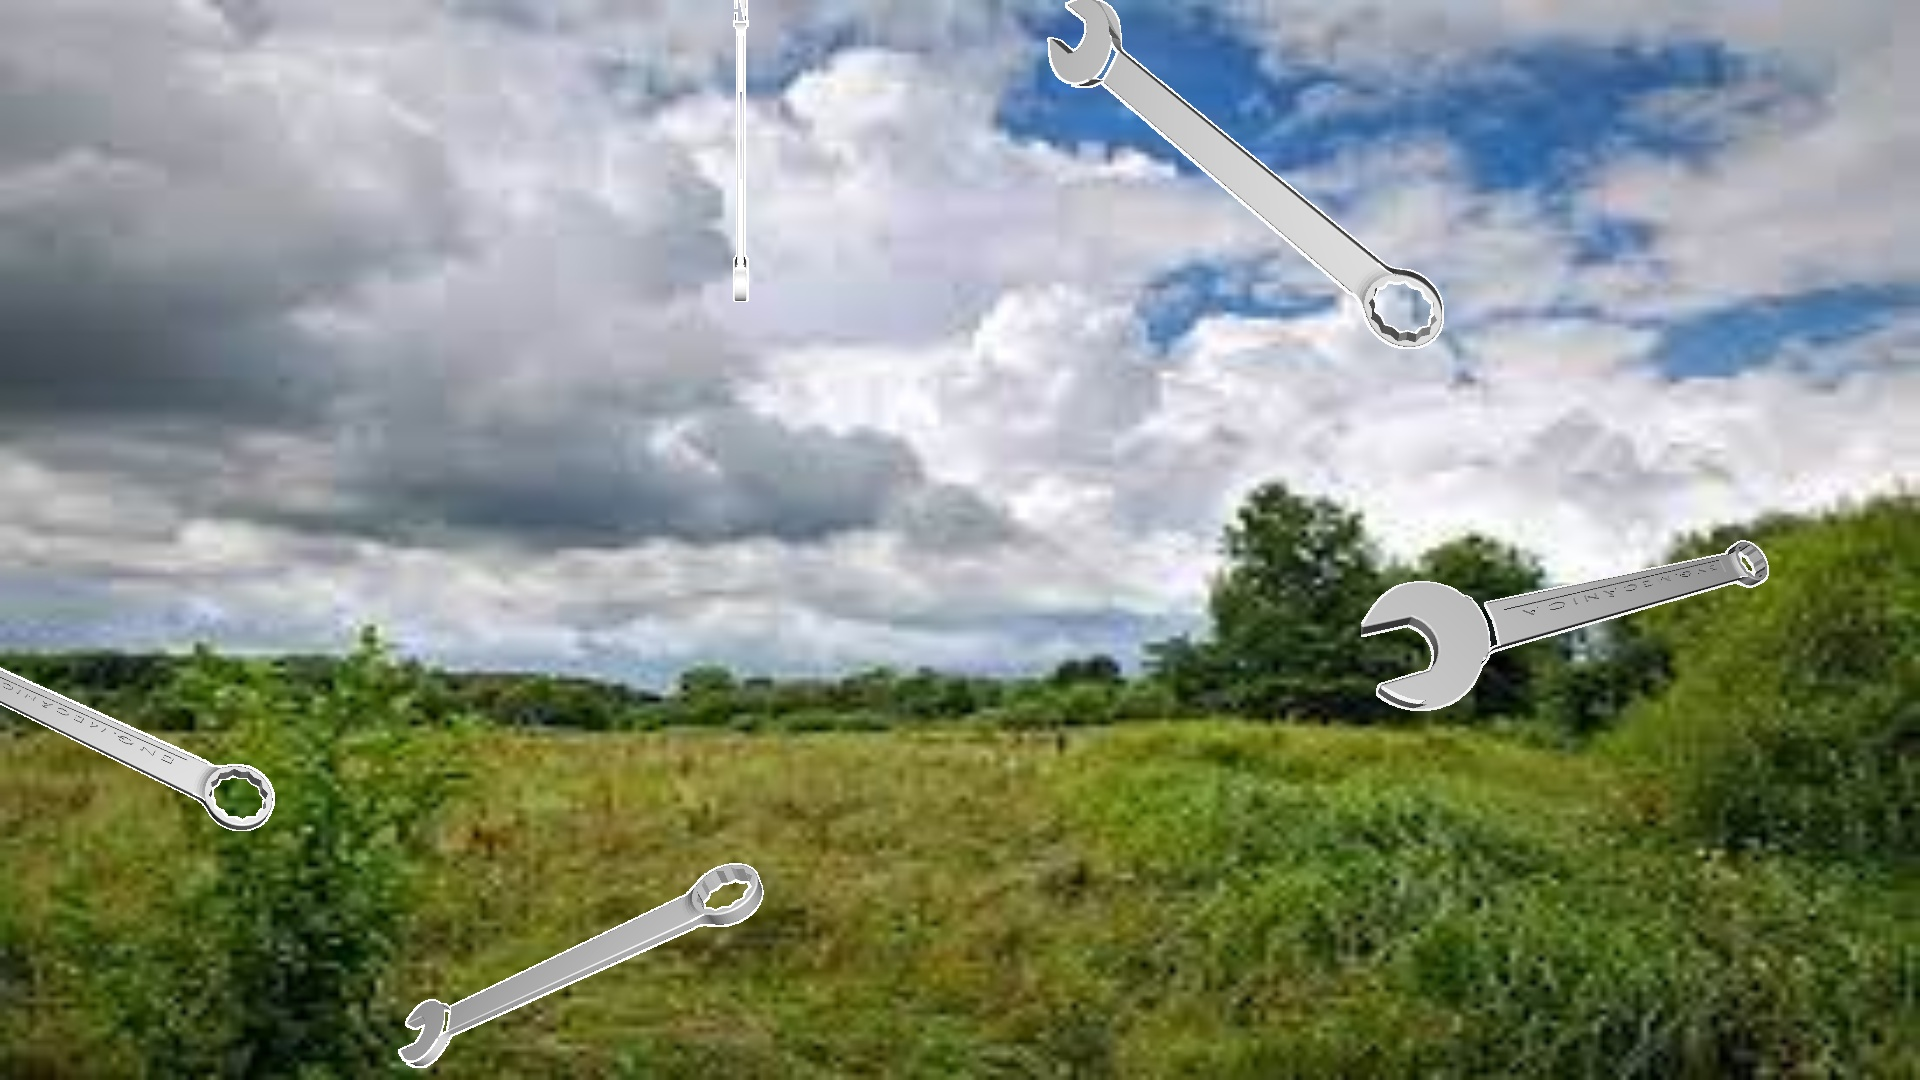Mixed Key: (1047, 0, 1443, 348), (398, 862, 764, 1067), (1361, 539, 1768, 709), (0, 667, 274, 829), (733, 0, 748, 301)
